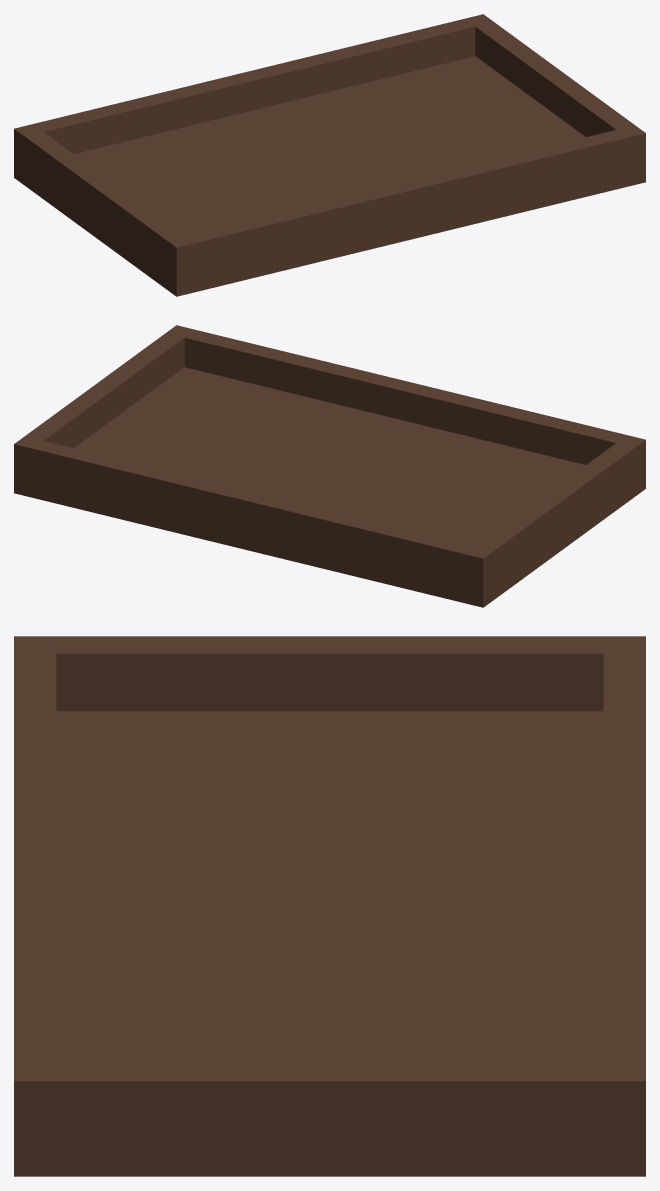
The model's file is tray-walnut.glb.
The picture shows the model from 3 angles, top to bottom: view 1: azimuth 30°, elevation 25°; view 2: azimuth 150°, elevation 25°; view 3: azimuth 270°, elevation 25°; orthographic projection. The views are drawn at different scales.
Parts seen in each view (by area): view 1: tray-walnut; view 2: tray-walnut; view 3: tray-walnut.
Boxes of the visible parts, x1,y1,x2,y2 form: tray-walnut: [14, 14, 645, 296]; tray-walnut: [14, 325, 645, 607]; tray-walnut: [14, 636, 645, 1176].
Bounding box in the file's own units: 0.3 × 0.03 × 0.18.
